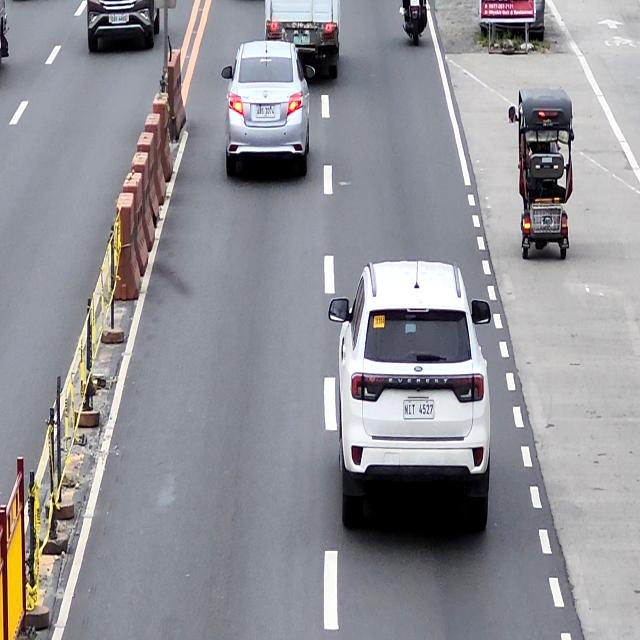Car: (327, 261, 491, 540), (222, 40, 315, 180), (263, 0, 342, 78)
E-bike: (511, 85, 573, 259)
License-Plate: (402, 399, 434, 421), (256, 106, 276, 120), (293, 34, 311, 46)
